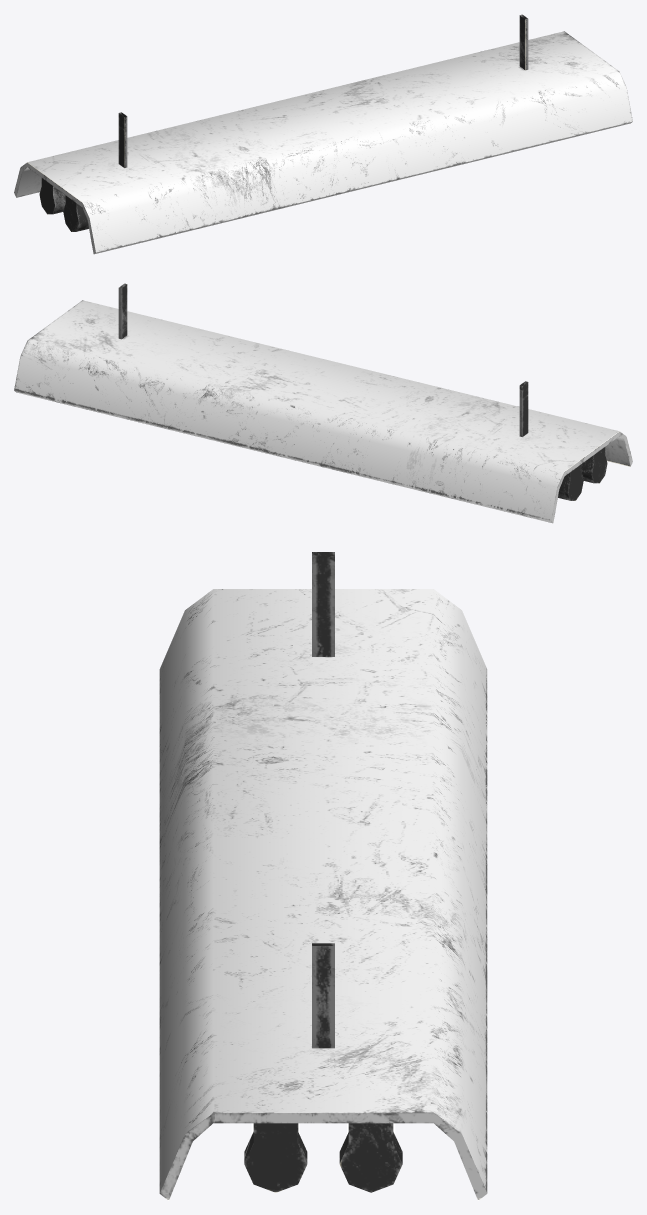
File: Neonlamp_AA.fbx
3 renders of one model, top to bottom at view 1: azimuth 30°, elevation 25°; view 2: azimuth 150°, elevation 25°; view 3: azimuth 270°, elevation 25°, orthographic. The views are drawn at different scales.
Parts seen in each view (by area): view 1: Neonlamp_AA; view 2: Neonlamp_AA; view 3: Neonlamp_AA.
Boxes of the visible parts, box(x1,y1,x2,y2) form: Neonlamp_AA: box(14, 14, 632, 254); Neonlamp_AA: box(14, 283, 632, 523); Neonlamp_AA: box(159, 552, 487, 1200).
Size of the model in its own units: 0.9997 by 0.2643 by 0.1688.
Materials: 1 (1 with a texture image).
